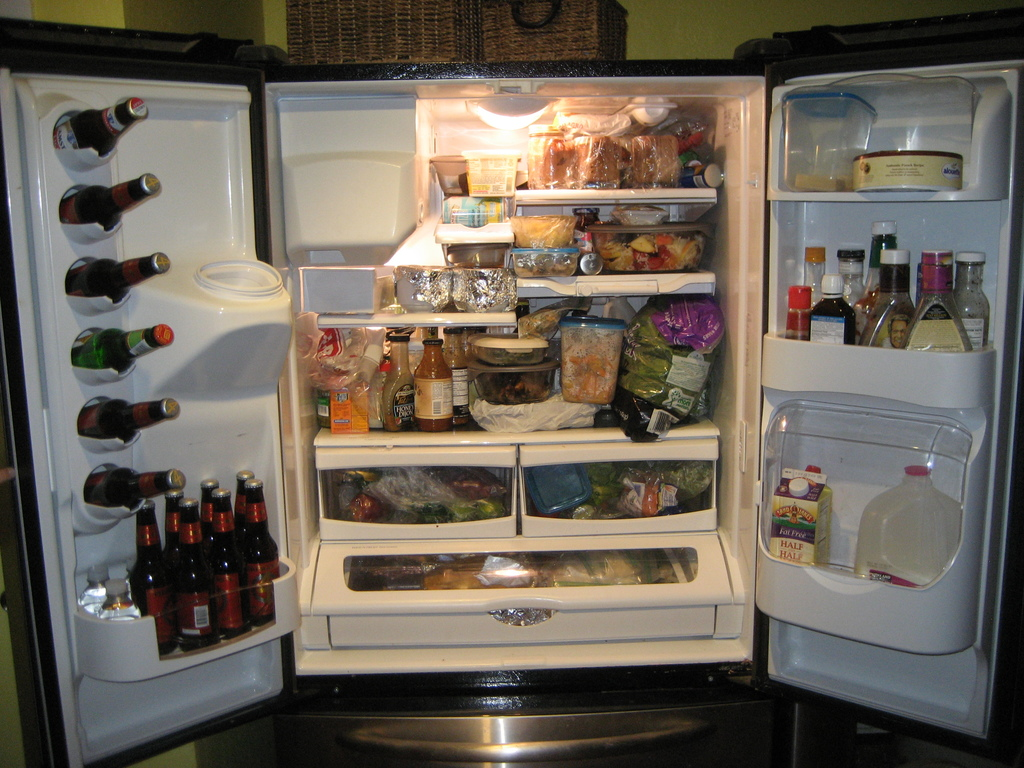refrigerator door: (22, 60, 270, 695), (767, 74, 1002, 711)
